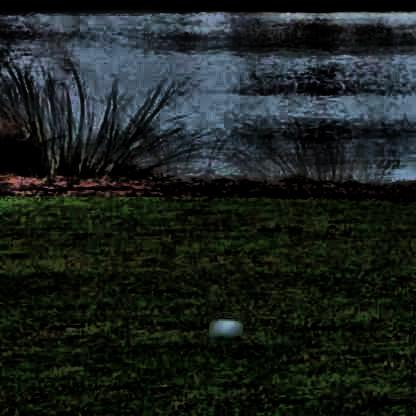golfball: (207, 315, 241, 335)
